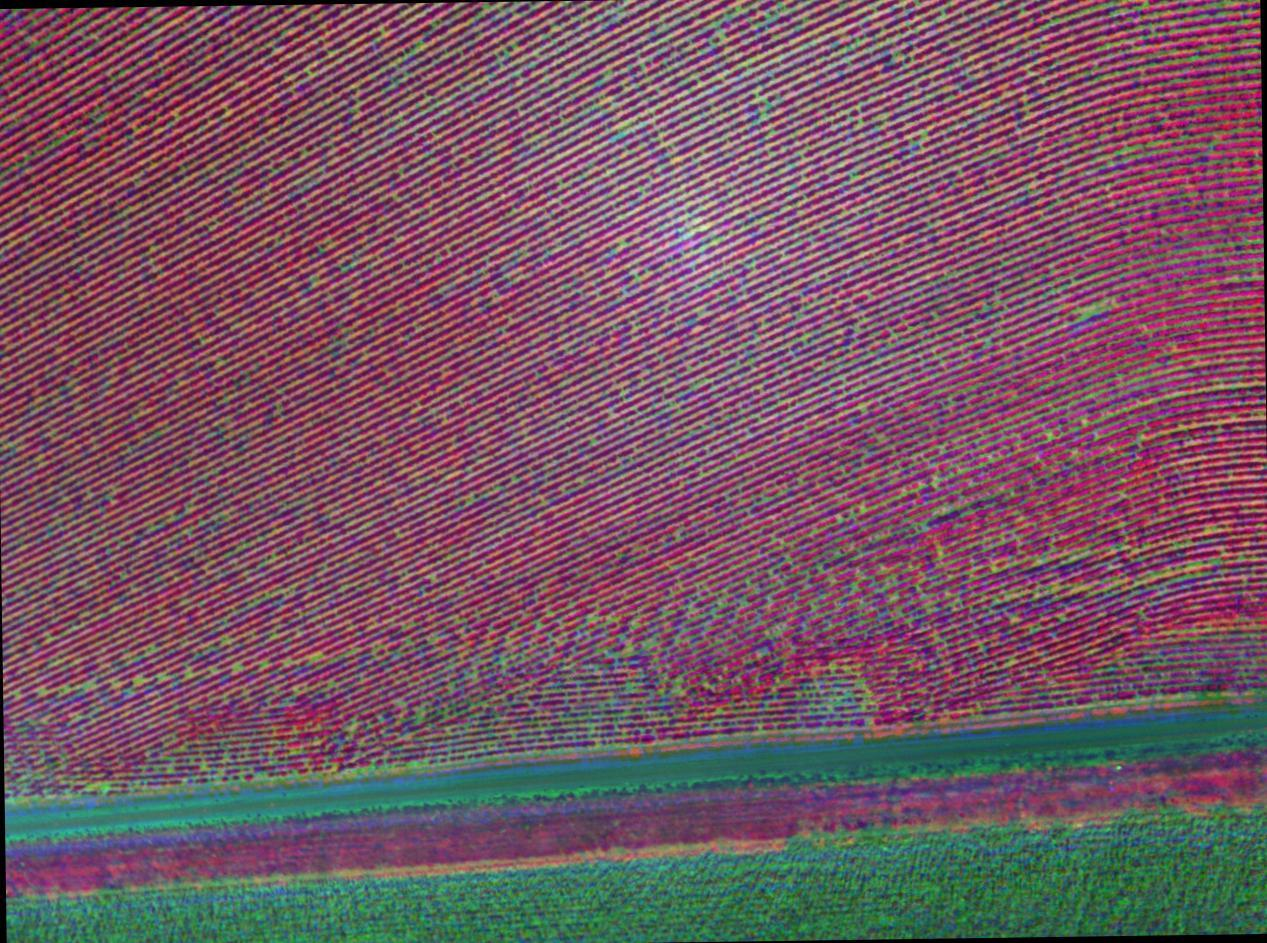dc: (700, 226, 705, 231), (857, 681, 862, 686), (839, 518, 843, 524), (933, 481, 937, 486), (407, 640, 411, 644), (135, 680, 139, 684), (416, 713, 420, 717), (202, 765, 206, 769), (831, 665, 834, 669), (200, 522, 203, 525)
